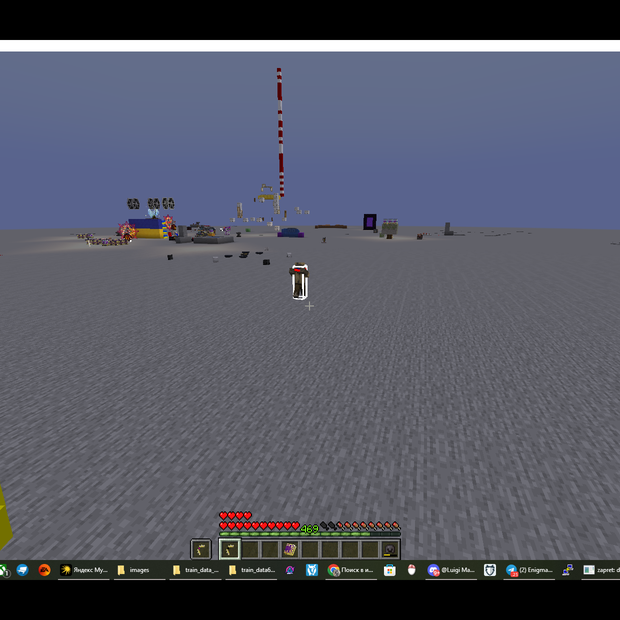target: (290, 265, 307, 300)
